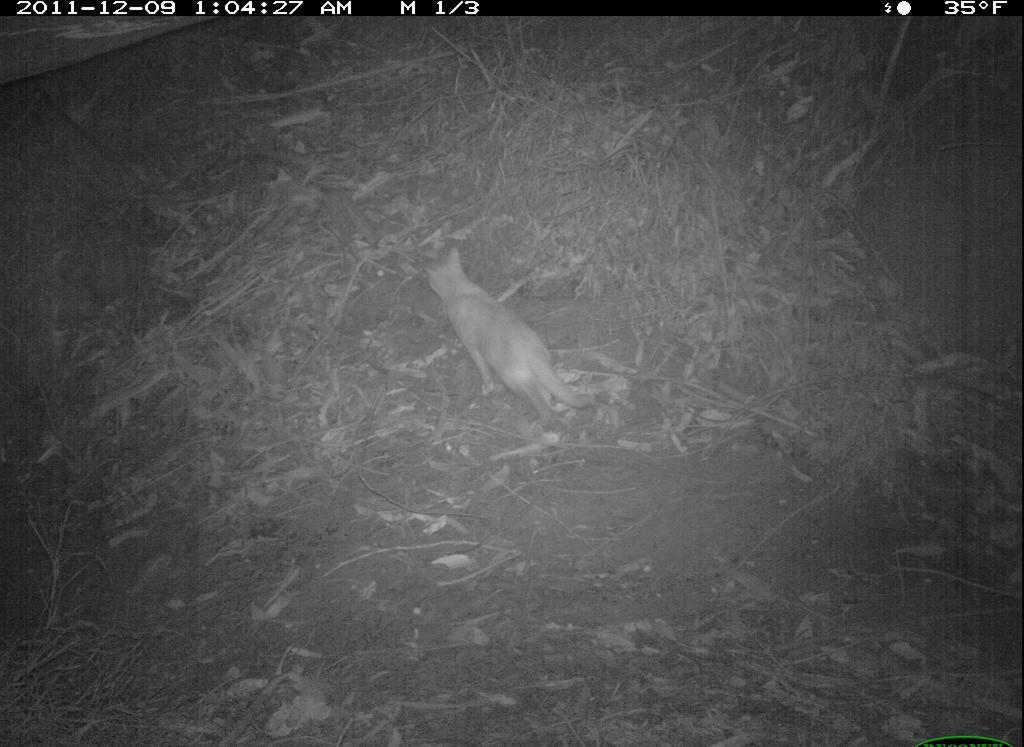dog: (420, 233, 601, 436)
